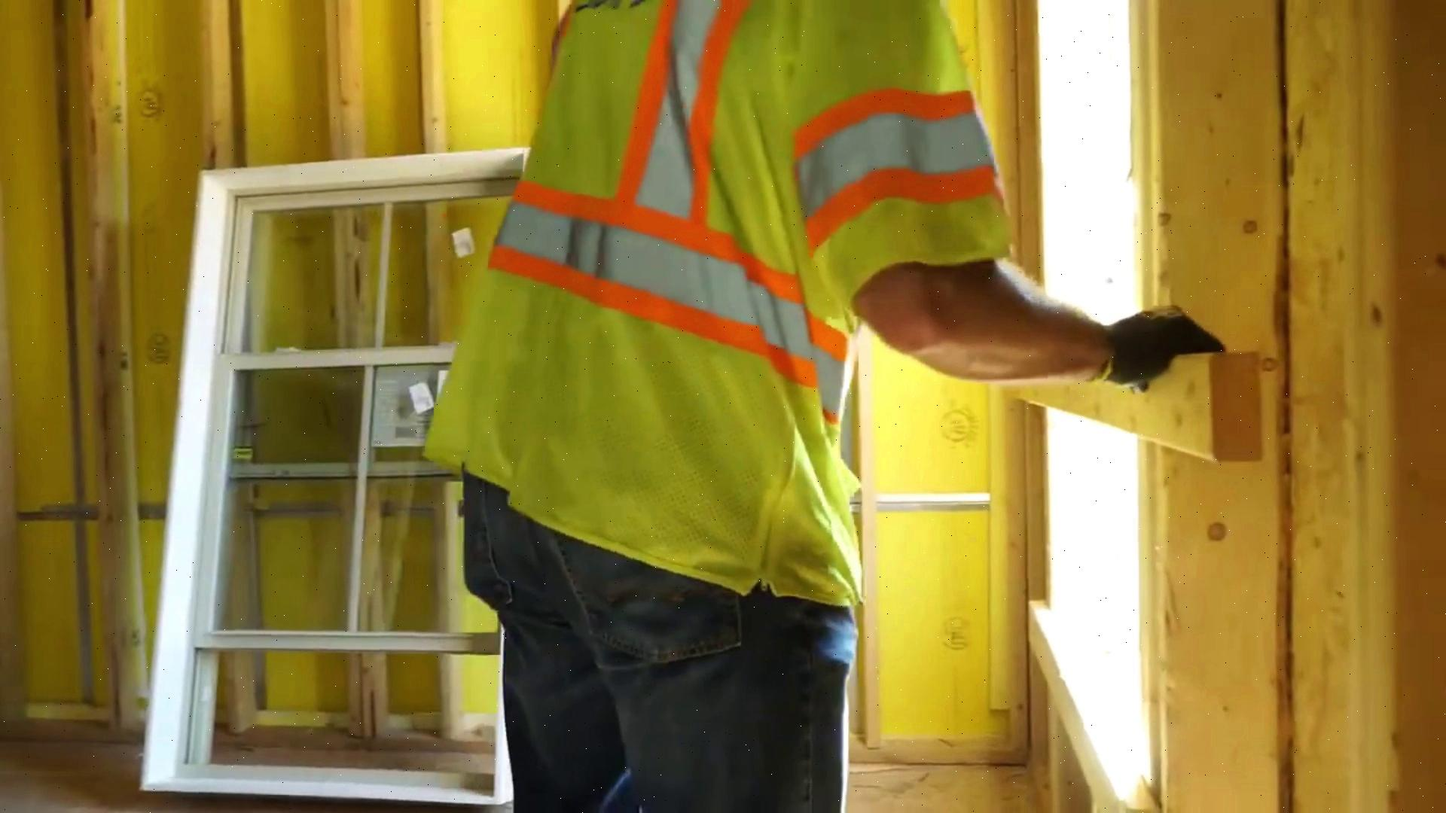Vest: (479, 0, 971, 627)
